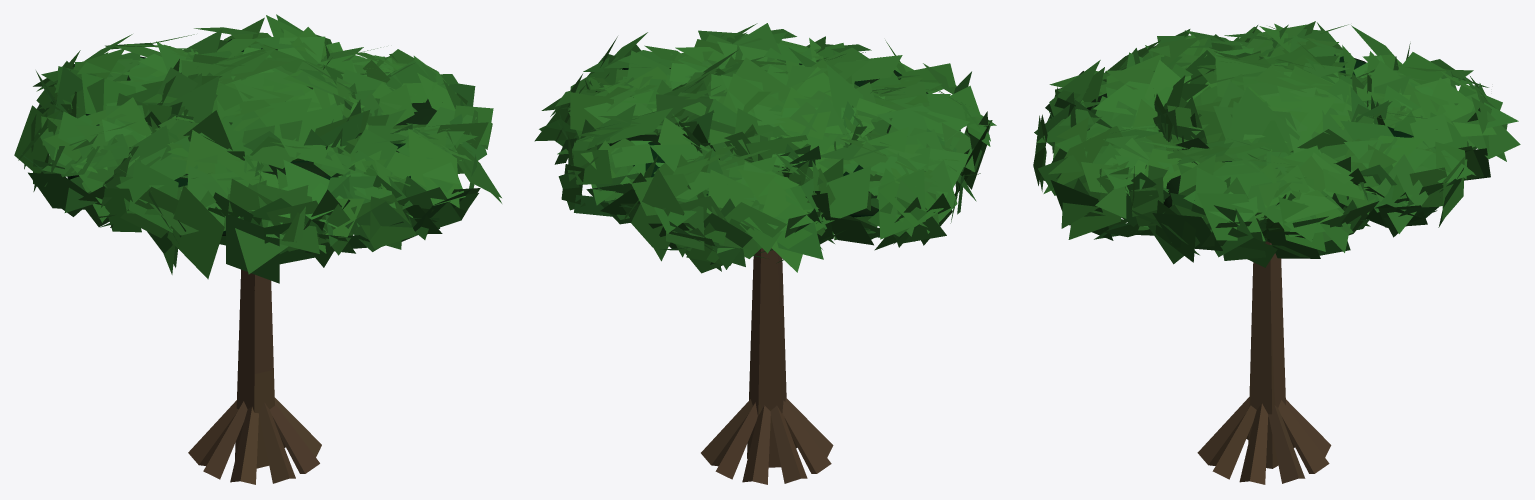
Rendered from rainforest-canopy.glb.
3 renders of one model, left to right at view 1: azimuth 30°, elevation 25°; view 2: azimuth 150°, elevation 25°; view 3: azimuth 270°, elevation 25°, orthographic.
Visible parts, largest first — view 1: rainforest-canopy-b, rainforest-canopy-c, rainforest-canopy-a; view 2: rainforest-canopy-b, rainforest-canopy-a, rainforest-canopy-c; view 3: rainforest-canopy-a, rainforest-canopy-b, rainforest-canopy-c.
Boxes of the visible parts, left/top/right/bottom form: rainforest-canopy-b: left=14, top=34, right=493, bottom=483; rainforest-canopy-c: left=33, top=17, right=501, bottom=484; rainforest-canopy-a: left=28, top=14, right=501, bottom=479; rainforest-canopy-b: left=553, top=32, right=990, bottom=483; rainforest-canopy-a: left=534, top=30, right=976, bottom=479; rainforest-canopy-c: left=554, top=23, right=996, bottom=484; rainforest-canopy-a: left=1034, top=22, right=1502, bottom=479; rainforest-canopy-b: left=1033, top=21, right=1520, bottom=483; rainforest-canopy-c: left=1043, top=23, right=1491, bottom=484.
Size of the model in its own units: 2.21 by 2.05 by 2.21.
